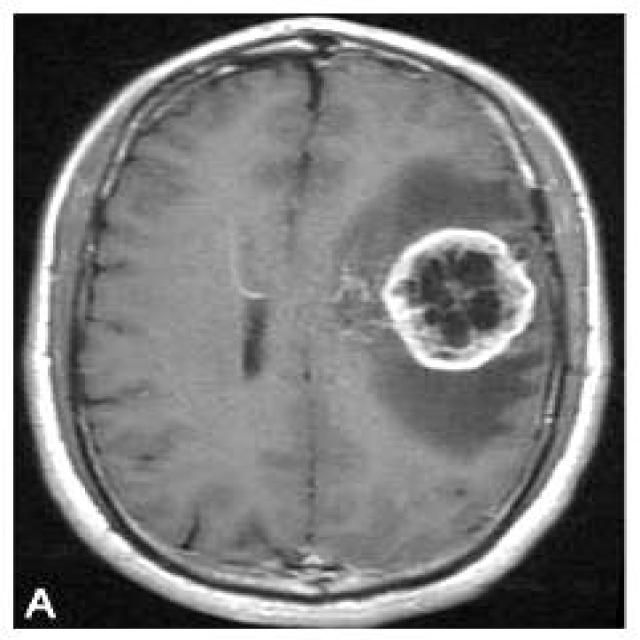Tumor-Cell: (381, 206, 531, 378)
